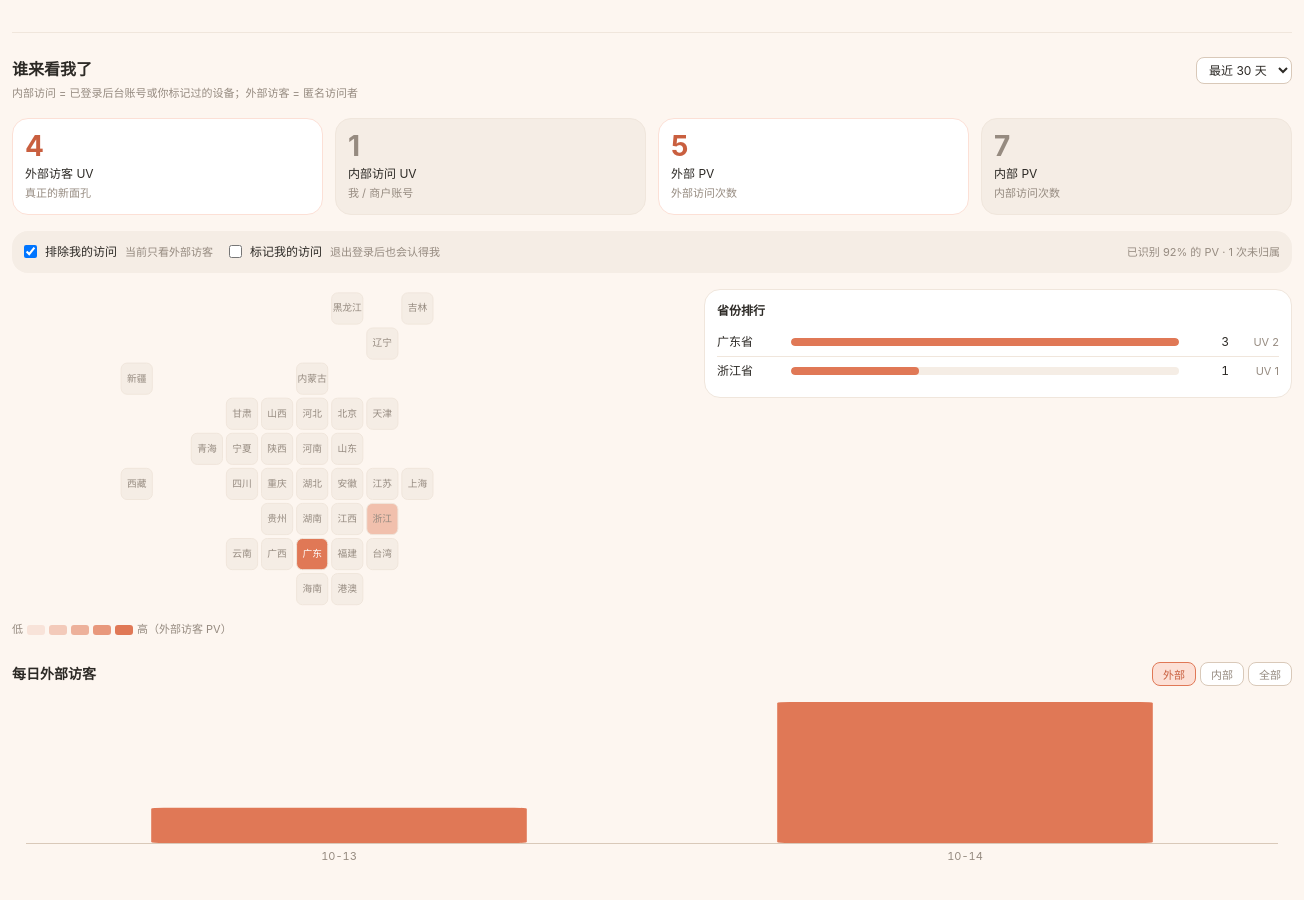
Test: RegionStatsPanel › 关掉「排除我的访问」后按总量排行
The width and height of the screenshot is (1304, 900).
Expected: the text "外部访客 UV" is shown, [25,166,94,181]
Click the checkbox with test id "exclude-self-toggle" at (30, 252), box [24,245,37,258]
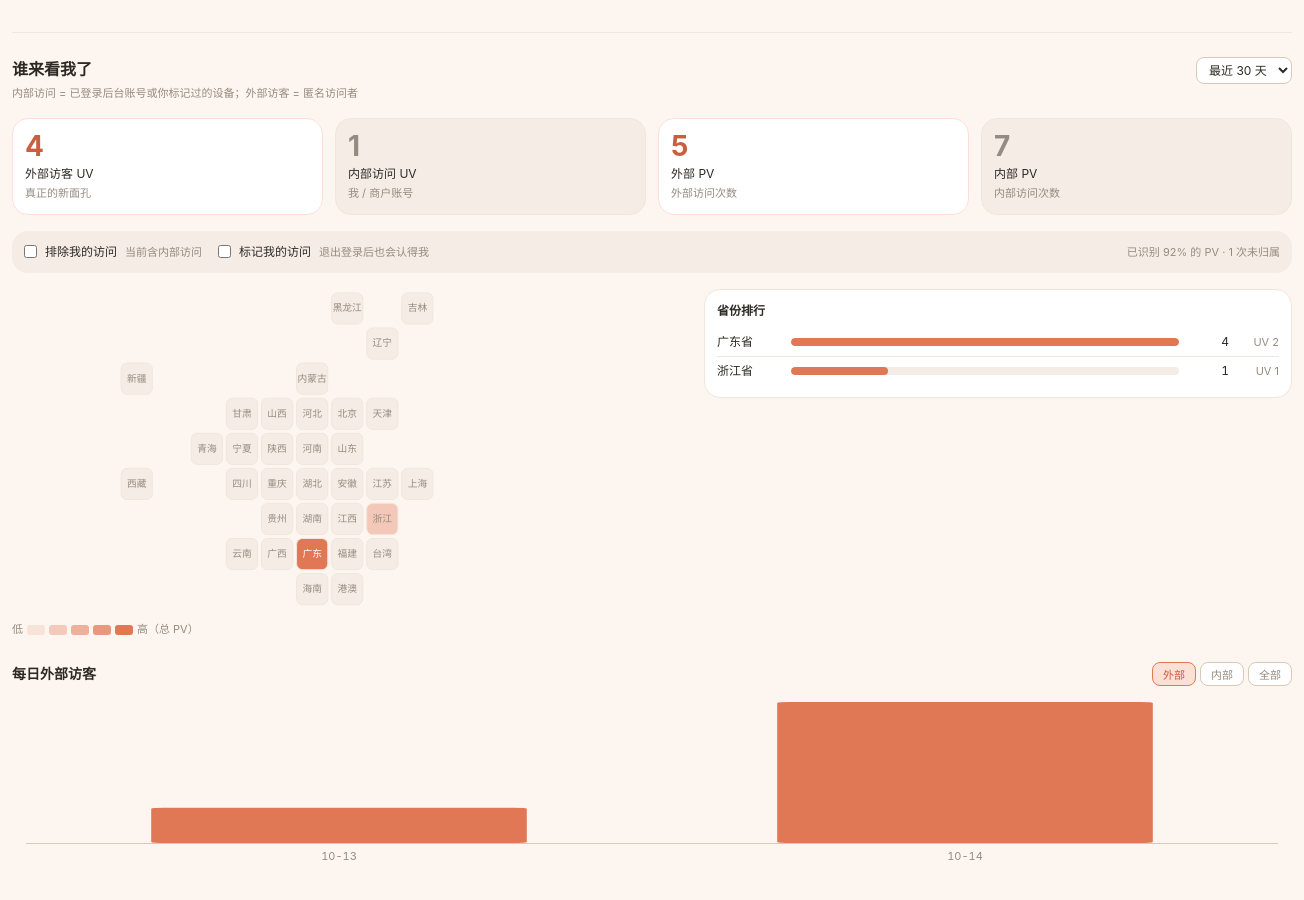
Now the text "当前含内部访问" is shown, box [125,244,202,260]
Now the list item "广东省" shows "4", box [1221,334,1229,349]
